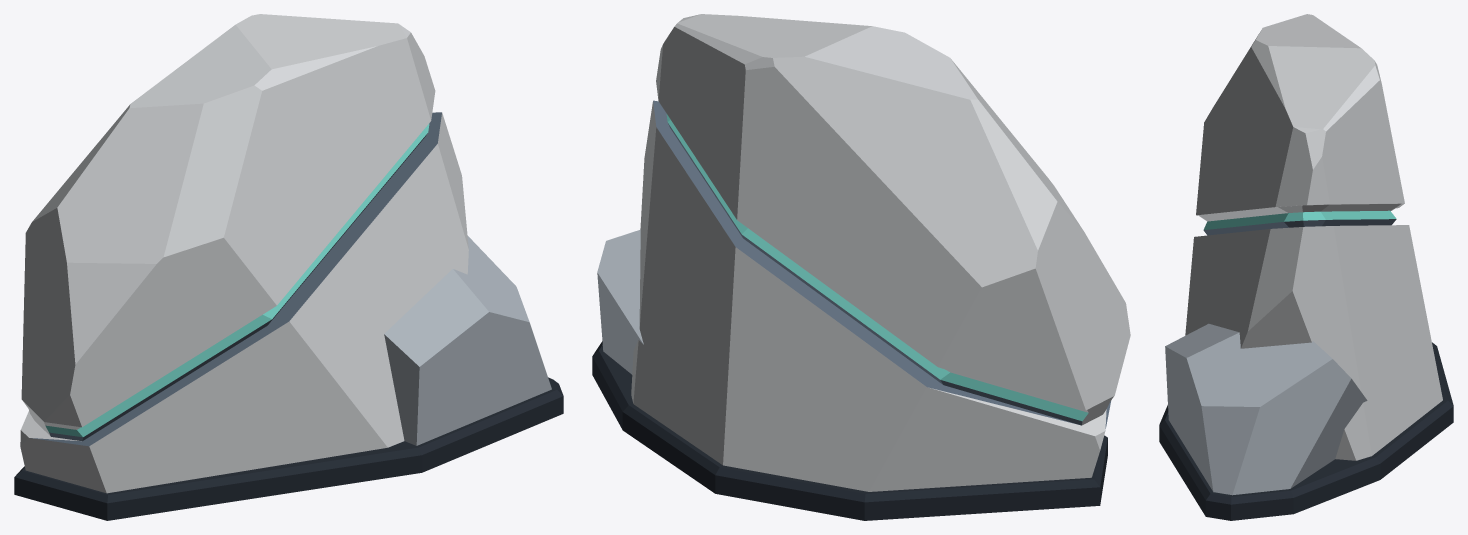
Rendered from landscape-boulder-526f7f.glb.
The picture shows the model from 3 angles, left to right: view 1: azimuth 30°, elevation 25°; view 2: azimuth 150°, elevation 25°; view 3: azimuth 270°, elevation 25°; orthographic projection. The views are drawn at different scales.
Parts seen in each view (by area): view 1: landscape-boulder-mesh; view 2: landscape-boulder-mesh; view 3: landscape-boulder-mesh.
Boxes of the visible parts, x1=… form: landscape-boulder-mesh: x1=14, y1=14, x2=563, y2=520; landscape-boulder-mesh: x1=592, y1=14, x2=1130, y2=520; landscape-boulder-mesh: x1=1159, y1=14, x2=1453, y2=520.
Size of the model in its own units: 1.26 by 0.9213 by 0.6865.
